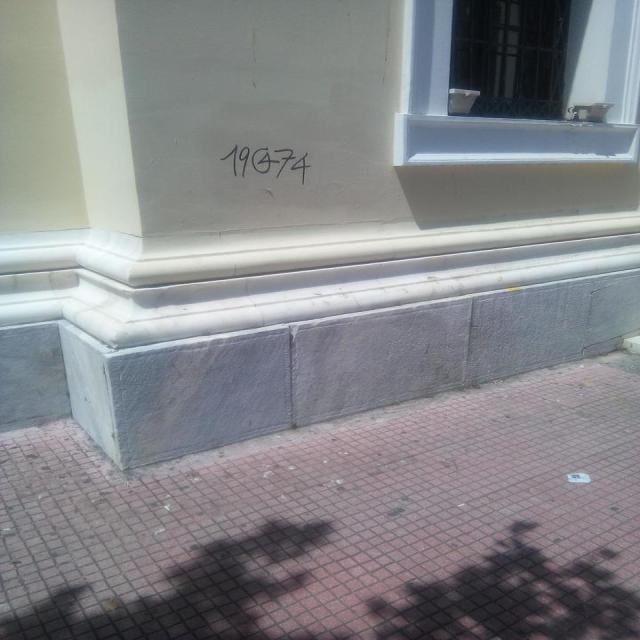nonspitting: (220, 143, 310, 184)
